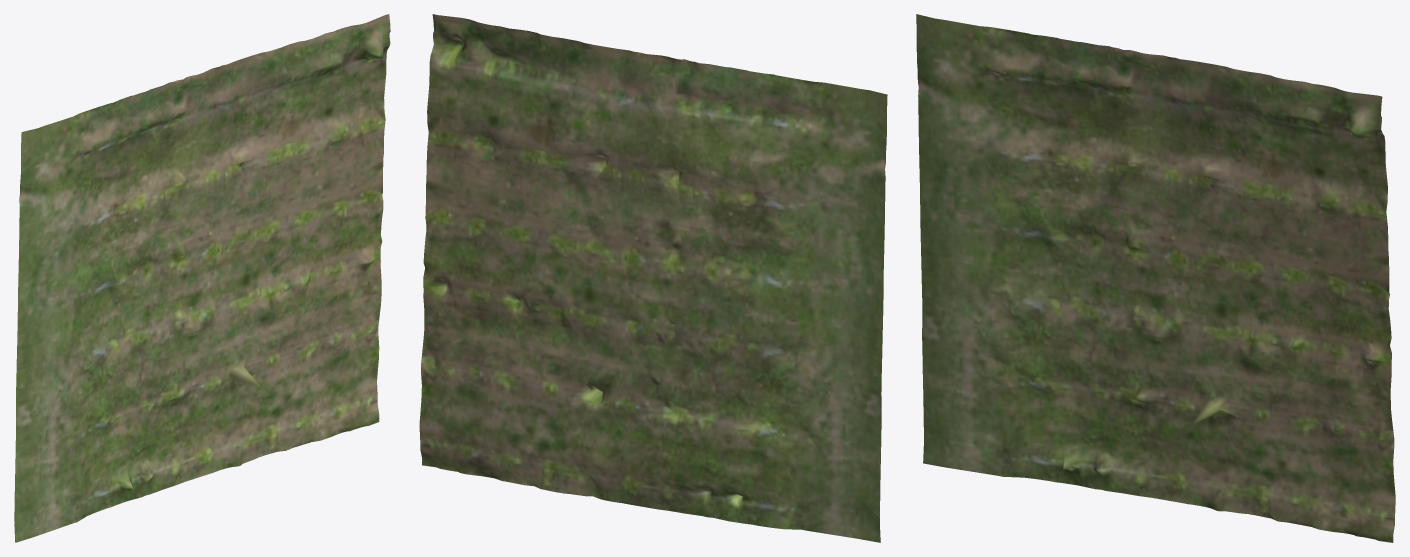
File: map_170_90.obj
The picture shows the model from 3 angles, left to right: view 1: azimuth 30°, elevation 25°; view 2: azimuth 150°, elevation 25°; view 3: azimuth 330°, elevation 25°; orthographic projection. The views are drawn at different scales.
Bounding box in the file's own units: 10 × 10 × 1.81.
1 material, 1 textured.
